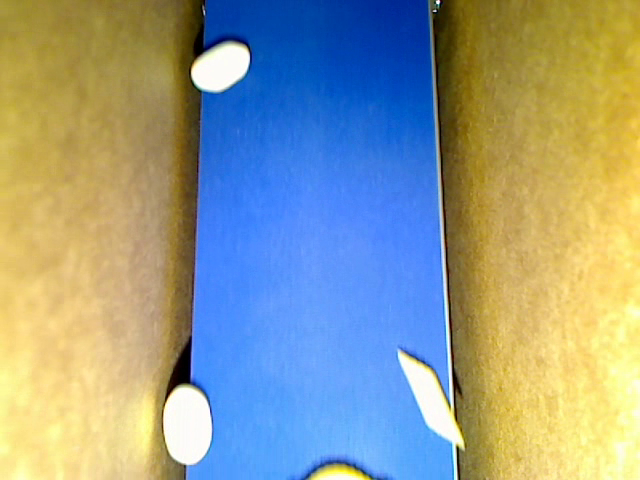penne: (397, 348, 465, 450)
